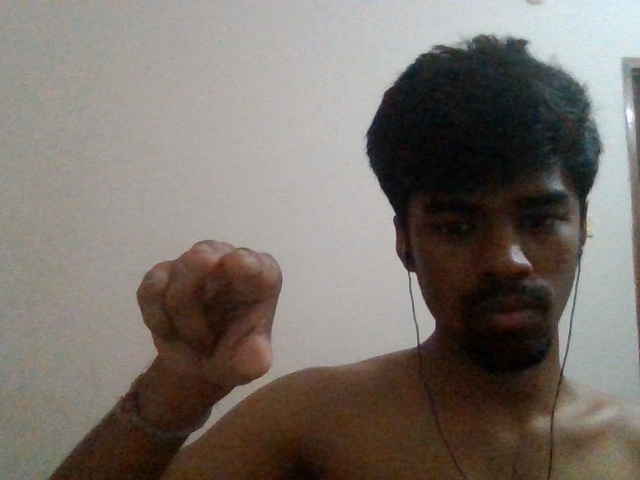No: (105, 232, 297, 395)
